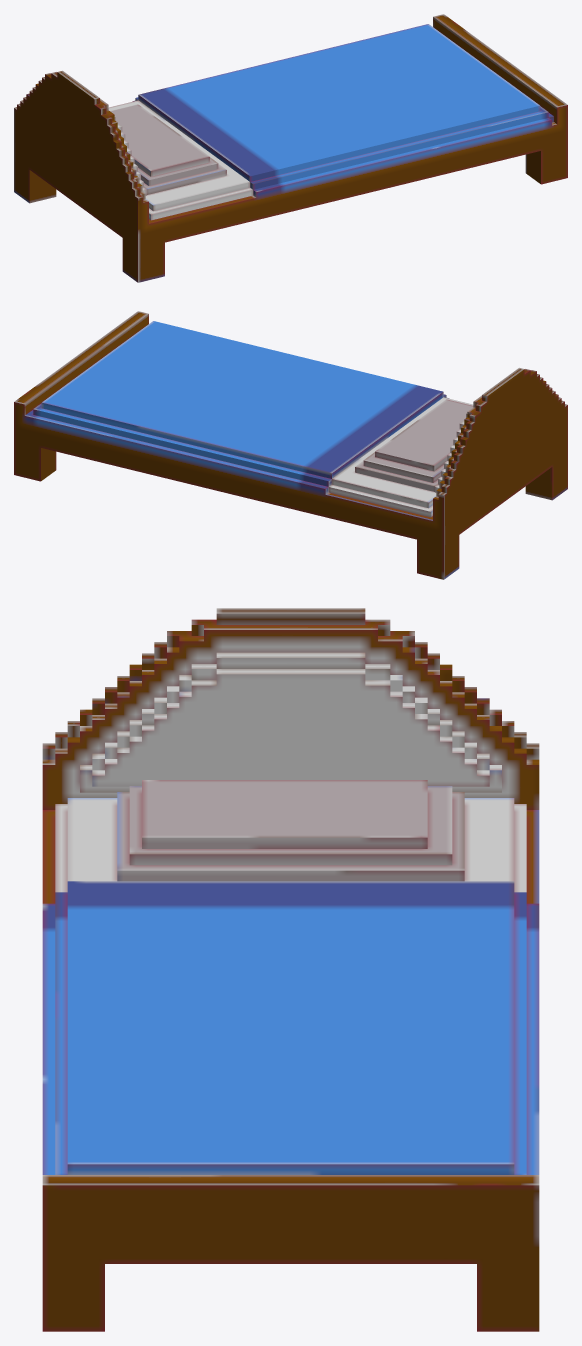
File: kasur_7.obj
The picture shows the model from 3 angles, top to bottom: view 1: azimuth 30°, elevation 25°; view 2: azimuth 150°, elevation 25°; view 3: azimuth 270°, elevation 25°; orthographic projection. The views are drawn at different scales.
Visible parts, largest first — view 1: kasur_7; view 2: kasur_7; view 3: kasur_7.
Boxes of the visible parts, x1=… form: kasur_7: x1=14, y1=14, x2=567, y2=282; kasur_7: x1=14, y1=311, x2=567, y2=579; kasur_7: x1=42, y1=608, x2=539, y2=1331.
Bounding box in the file's own units: 8 × 2.7 × 4.
1 material, 1 textured.
